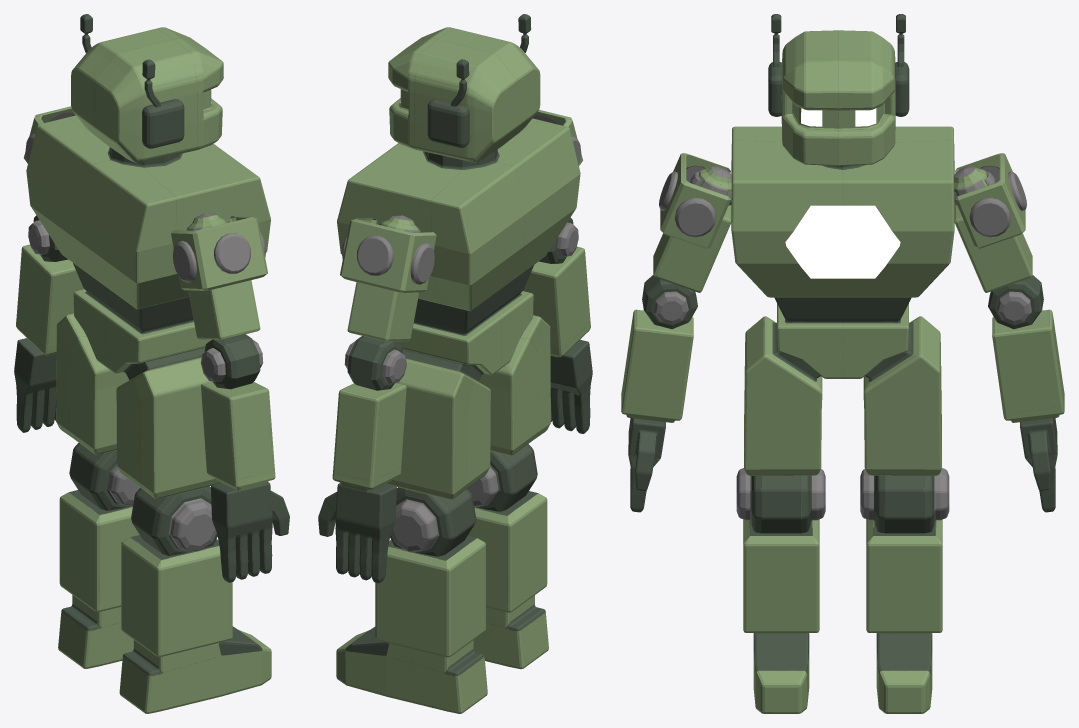
File: Robot.fbx
3 renders of one model, left to right at view 1: azimuth 30°, elevation 25°; view 2: azimuth 150°, elevation 25°; view 3: azimuth 270°, elevation 25°, orthographic.
Parts seen in each view (by area): view 1: Cubo, Cube.002, Cube, Sphere.004, Sphere, Cylinder, Plane, Sphere.002, Sphere.003, Cube.001, Sphere.001; view 2: Cubo, Cube.002, Cube, Sphere.004, Sphere, Cylinder, Plane, Sphere.002, Sphere.003, Cube.001, Sphere.001; view 3: Cubo, Cube.002, Cube, Sphere.004, Cylinder, Plane, Sphere.003, Sphere, Sphere.002, Cube.001, Sphere.001.
Boxes of the visible parts, x1,y1,x2,y2 form: Cubo: (26,115,270,498); Cube.002: (58,490,271,713); Cube: (71,27,223,163); Sphere.004: (16,244,275,491); Sphere: (14,338,289,582); Cylinder: (69,442,217,555); Plane: (24,106,267,290); Sphere.002: (28,215,263,389); Sphere.003: (188,280,260,339); Cube.001: (80,14,184,148); Sphere.001: (186,213,228,230); Cubo: (337,118,580,499); Cube.002: (336,491,548,713); Cube: (388,27,540,162); Sphere.004: (332,246,590,492); Sphere: (318,339,592,583); Cylinder: (390,444,537,556); Plane: (340,109,582,292); Sphere.002: (344,217,578,390); Sphere.003: (347,282,419,341); Cube.001: (427,14,531,147); Sphere.001: (379,215,420,232); Cubo: (731,126,954,475); Cube.002: (743,519,942,713); Cube: (781,30,895,165); Sphere.004: (621,309,1064,422); Cylinder: (736,468,949,533); Plane: (659,153,1026,248); Sphere.003: (653,205,1032,292); Sphere: (628,418,1057,512); Sphere.002: (642,275,1043,329); Cube.001: (768,14,909,116); Sphere.001: (690,166,995,205).
Bounding box in the file's own units: 267 × 1088 × 677.
Materials: 2 (1 with a texture image).
